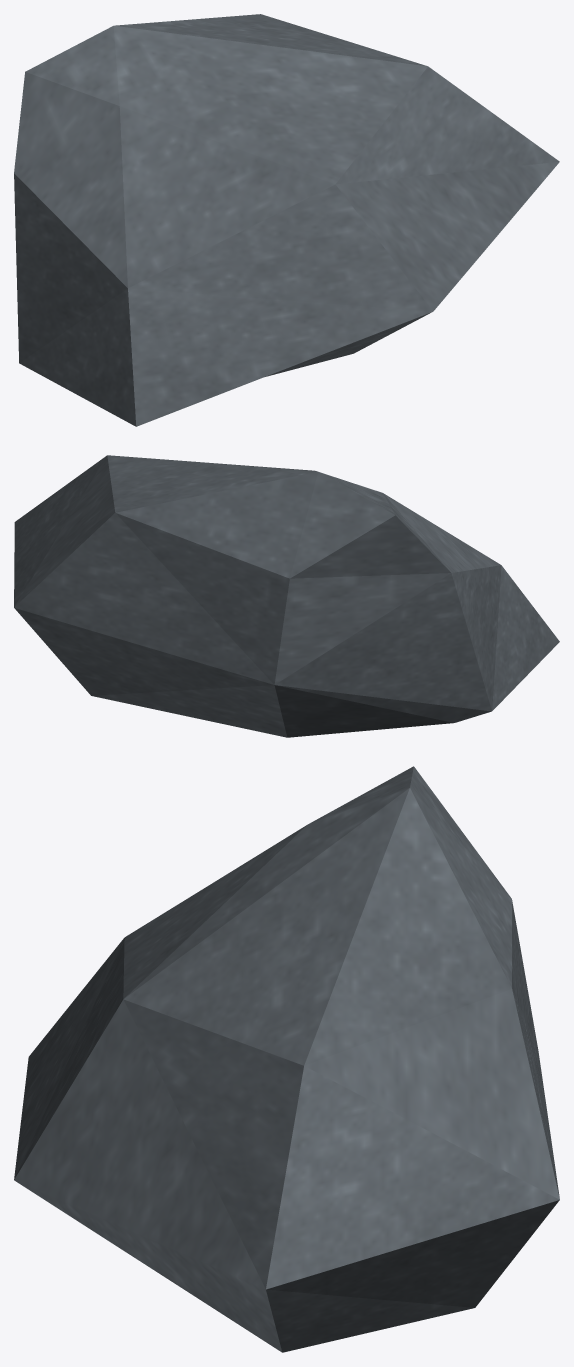
File: stone_flint_wedge.glb
The picture shows the model from 3 angles, top to bottom: view 1: azimuth 30°, elevation 25°; view 2: azimuth 150°, elevation 25°; view 3: azimuth 270°, elevation 25°; orthographic projection. The views are drawn at different scales.
Visible parts, largest first — view 1: stone_flint_wedge; view 2: stone_flint_wedge; view 3: stone_flint_wedge.
Boxes of the visible parts, x1=… form: stone_flint_wedge: x1=14, y1=14, x2=559, y2=426; stone_flint_wedge: x1=14, y1=455, x2=559, y2=737; stone_flint_wedge: x1=14, y1=766, x2=559, y2=1352.
Bounding box in the file's own units: 0.49 × 0.25 × 0.33.
1 material, 1 textured.
